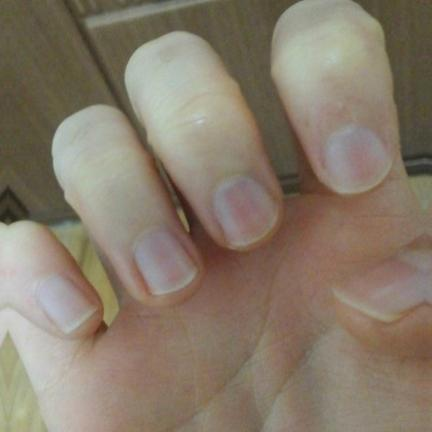Nail: (332, 254, 424, 322), (212, 176, 277, 247), (324, 126, 391, 194), (131, 226, 196, 295), (38, 275, 97, 334), (425, 255, 432, 306)
